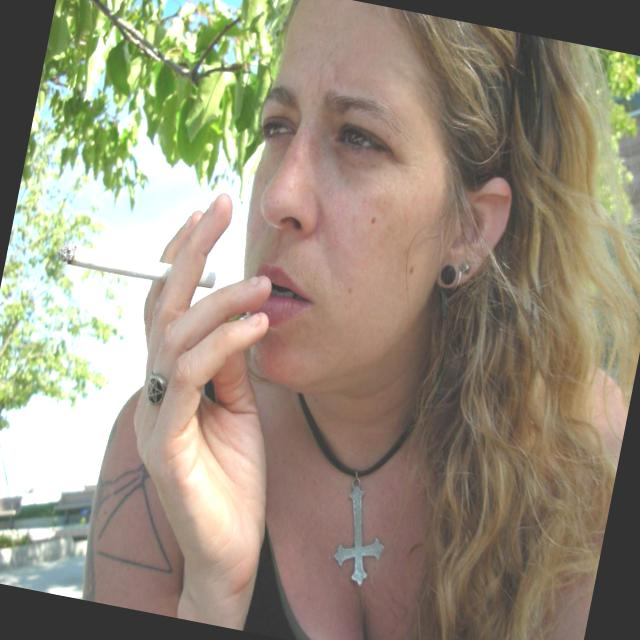cigarette: (47, 225, 226, 314)
